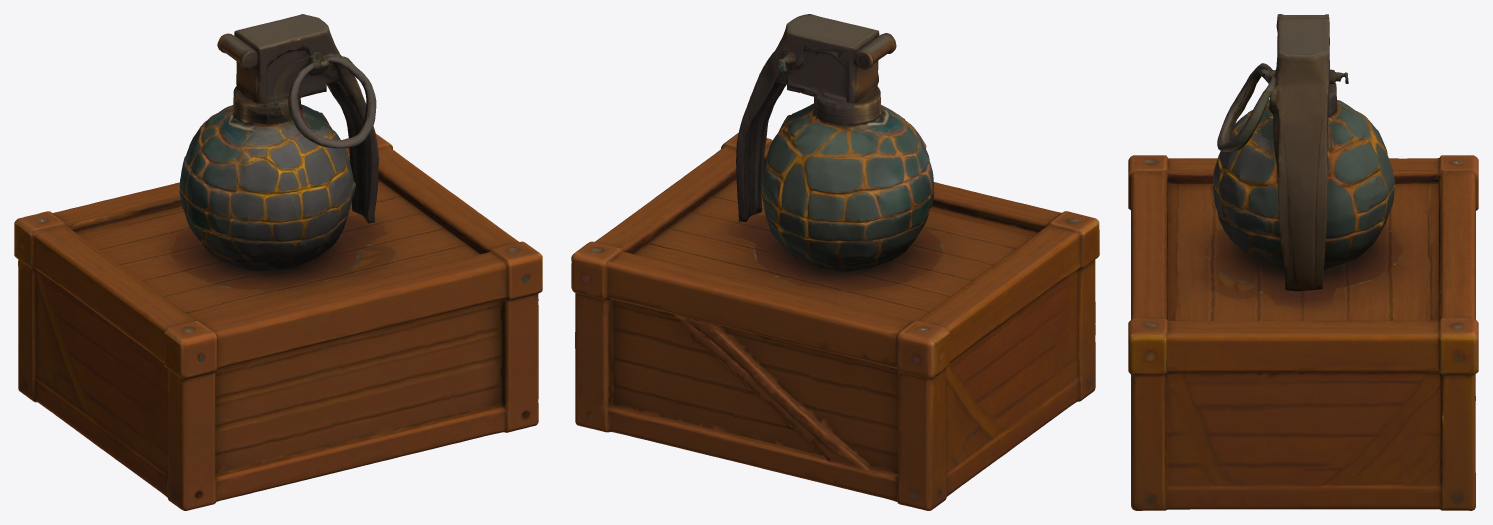
Rendered from Eruption_Arsenal_compressed.glb.
The picture shows the model from 3 angles, left to right: view 1: azimuth 30°, elevation 25°; view 2: azimuth 150°, elevation 25°; view 3: azimuth 270°, elevation 25°; orthographic projection. The views are drawn at different scales.
Size of the model in its own units: 2 by 1.99 by 1.63.
Materials: 1 (1 with a texture image).
